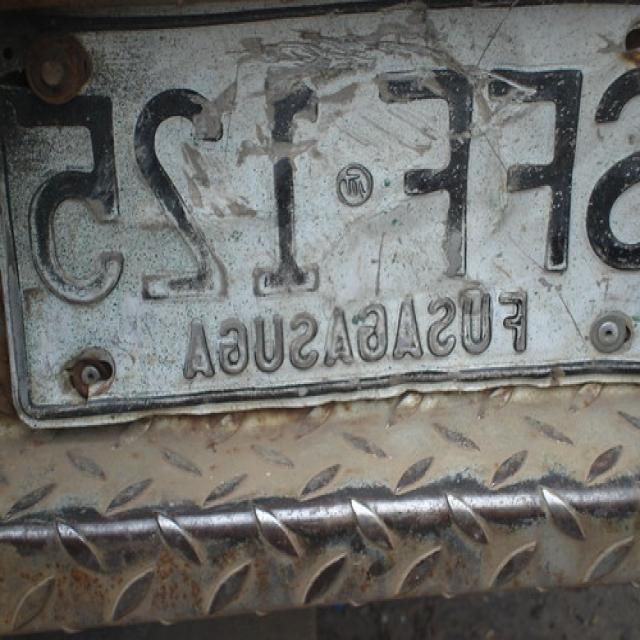placas: (0, 9, 638, 408)
